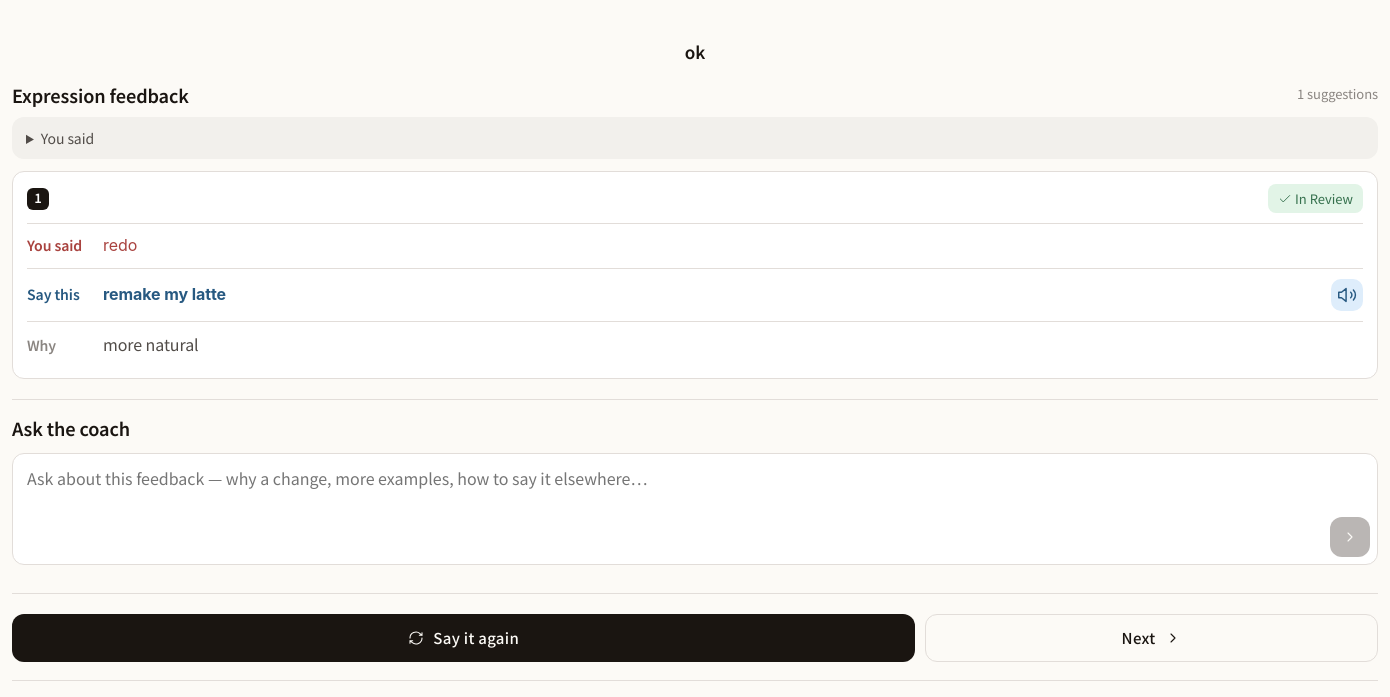
Test case: PracticePage feedback › removes a gap that is already in Review
(page scrolled)
Click the button "In Review" at x=1316, y=199, box [1268,184,1363,213]
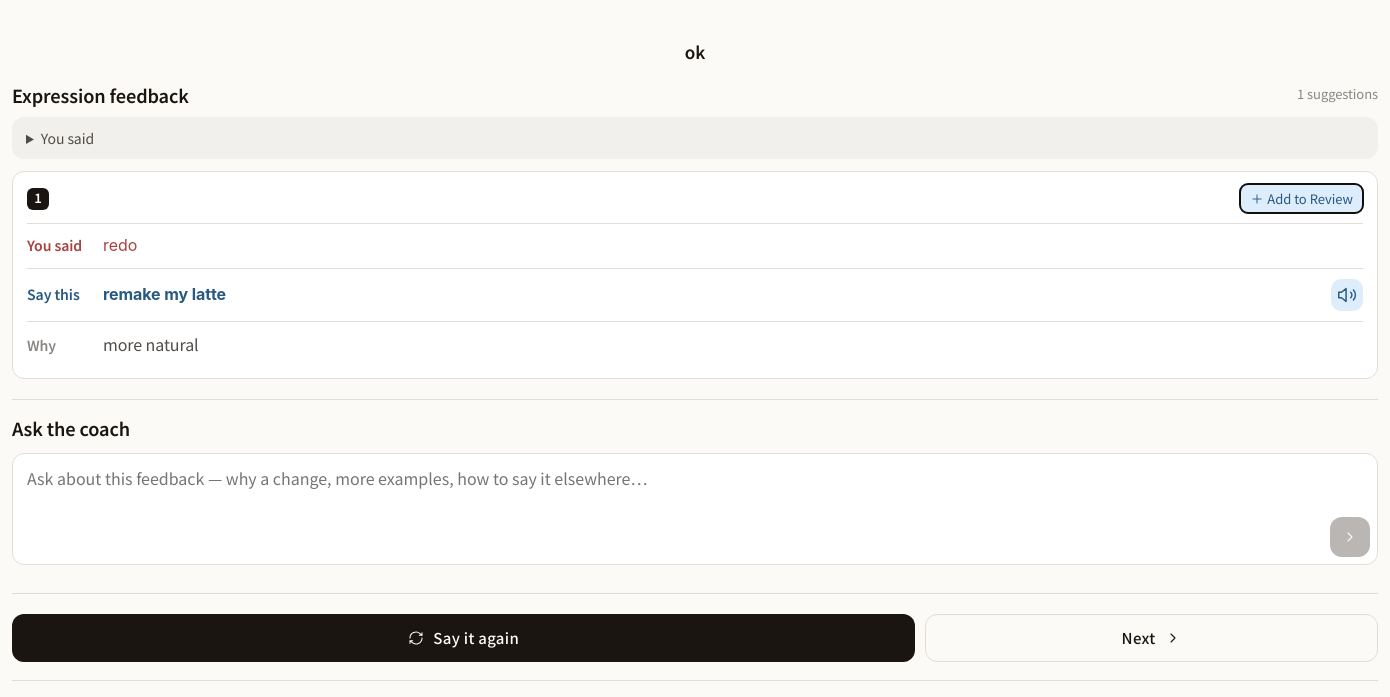
Result: the button "Add to Review" is shown at [1240,184,1363,213]
